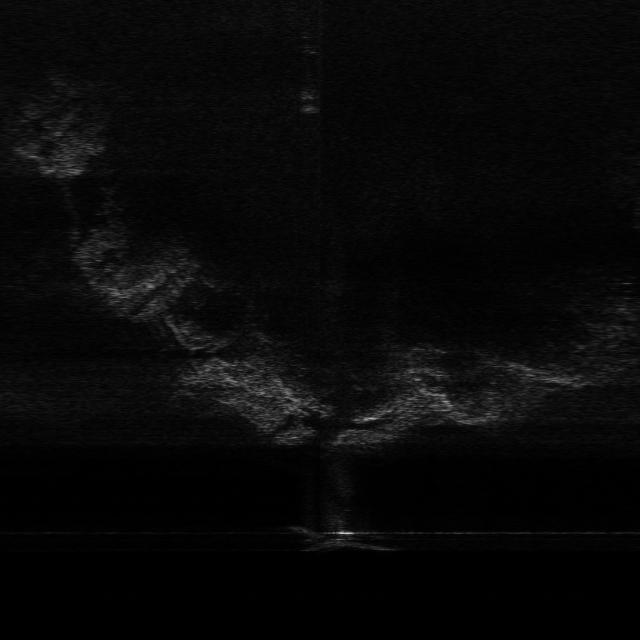plane: (287, 521, 402, 553)
